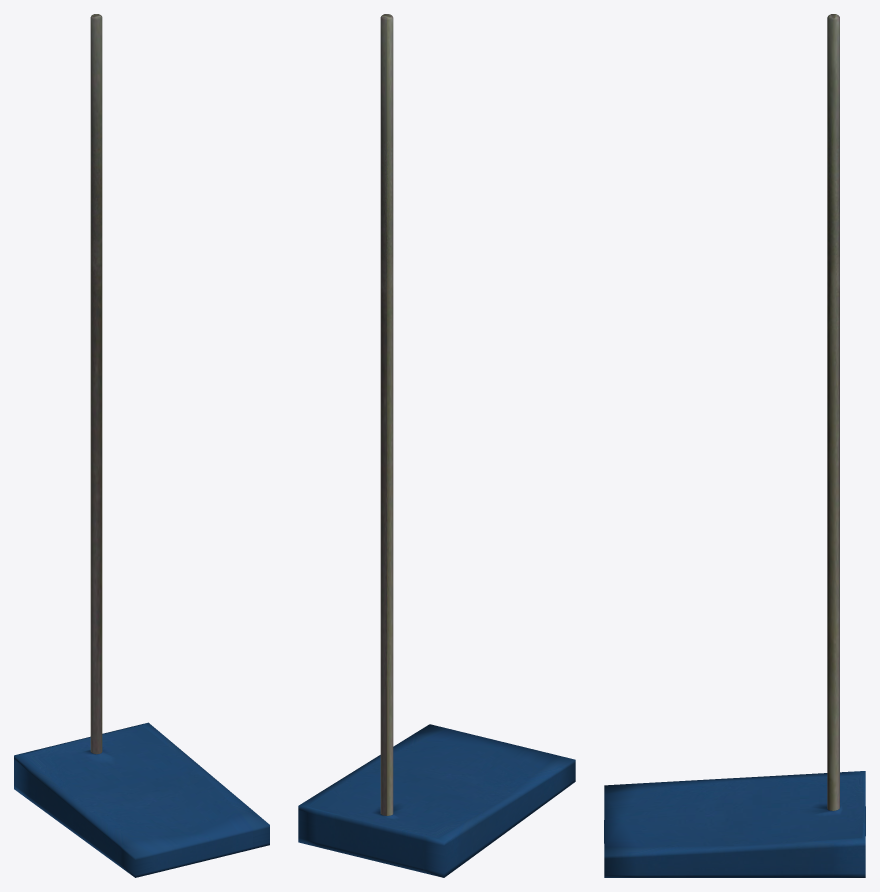
Rendered from Support_Stand.fbx.
The picture shows the model from 3 angles, left to right: view 1: azimuth 30°, elevation 25°; view 2: azimuth 150°, elevation 25°; view 3: azimuth 270°, elevation 25°; orthographic projection. The views are drawn at different scales.
Visible parts, largest first — view 1: Support; view 2: Support; view 3: Support.
Part boxes in pixels (x1,y1,x2,y2): Support: (14, 14, 269, 877); Support: (298, 14, 575, 877); Support: (604, 14, 865, 877).
Bounding box in the file's own units: 0.1598 × 0.8704 × 0.2494.
